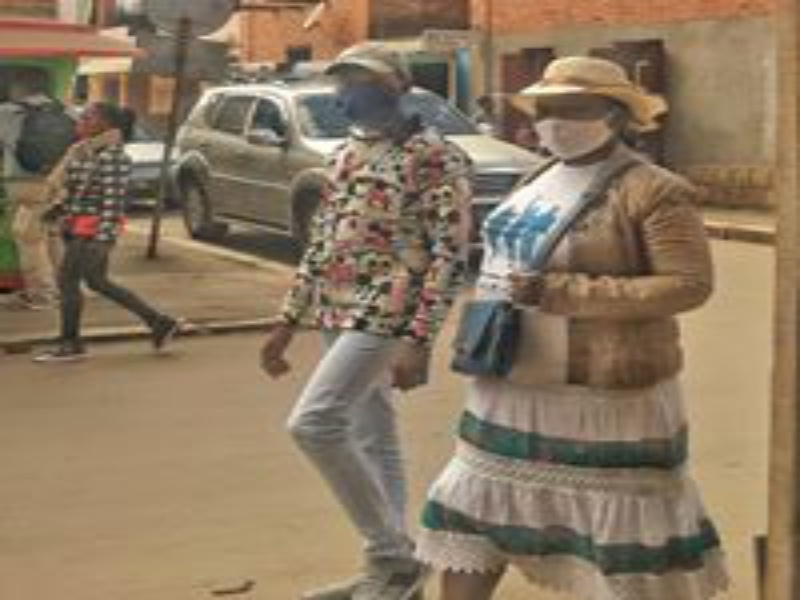ManaoArotava: (525, 57, 632, 173), (325, 49, 407, 138)
